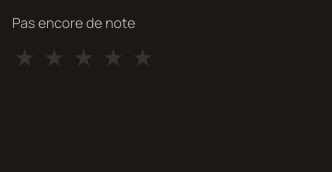
Test: StarRating › cliquer sur une étoile envoie la note
The image size is (332, 172).
Click the radio button named "4 étoiles": click(113, 57) [100, 43, 126, 71]
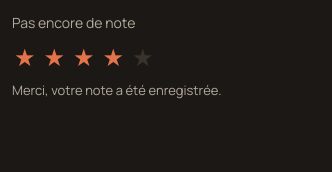
Now the text "Merci, votre note a été enregistrée." is shown, box [12, 81, 222, 99]
